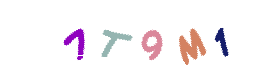1: (182, 0, 262, 80)
7: (37, 0, 117, 80)
9: (96, 0, 176, 80)
M: (136, 0, 216, 80)
T: (84, 0, 164, 80)
